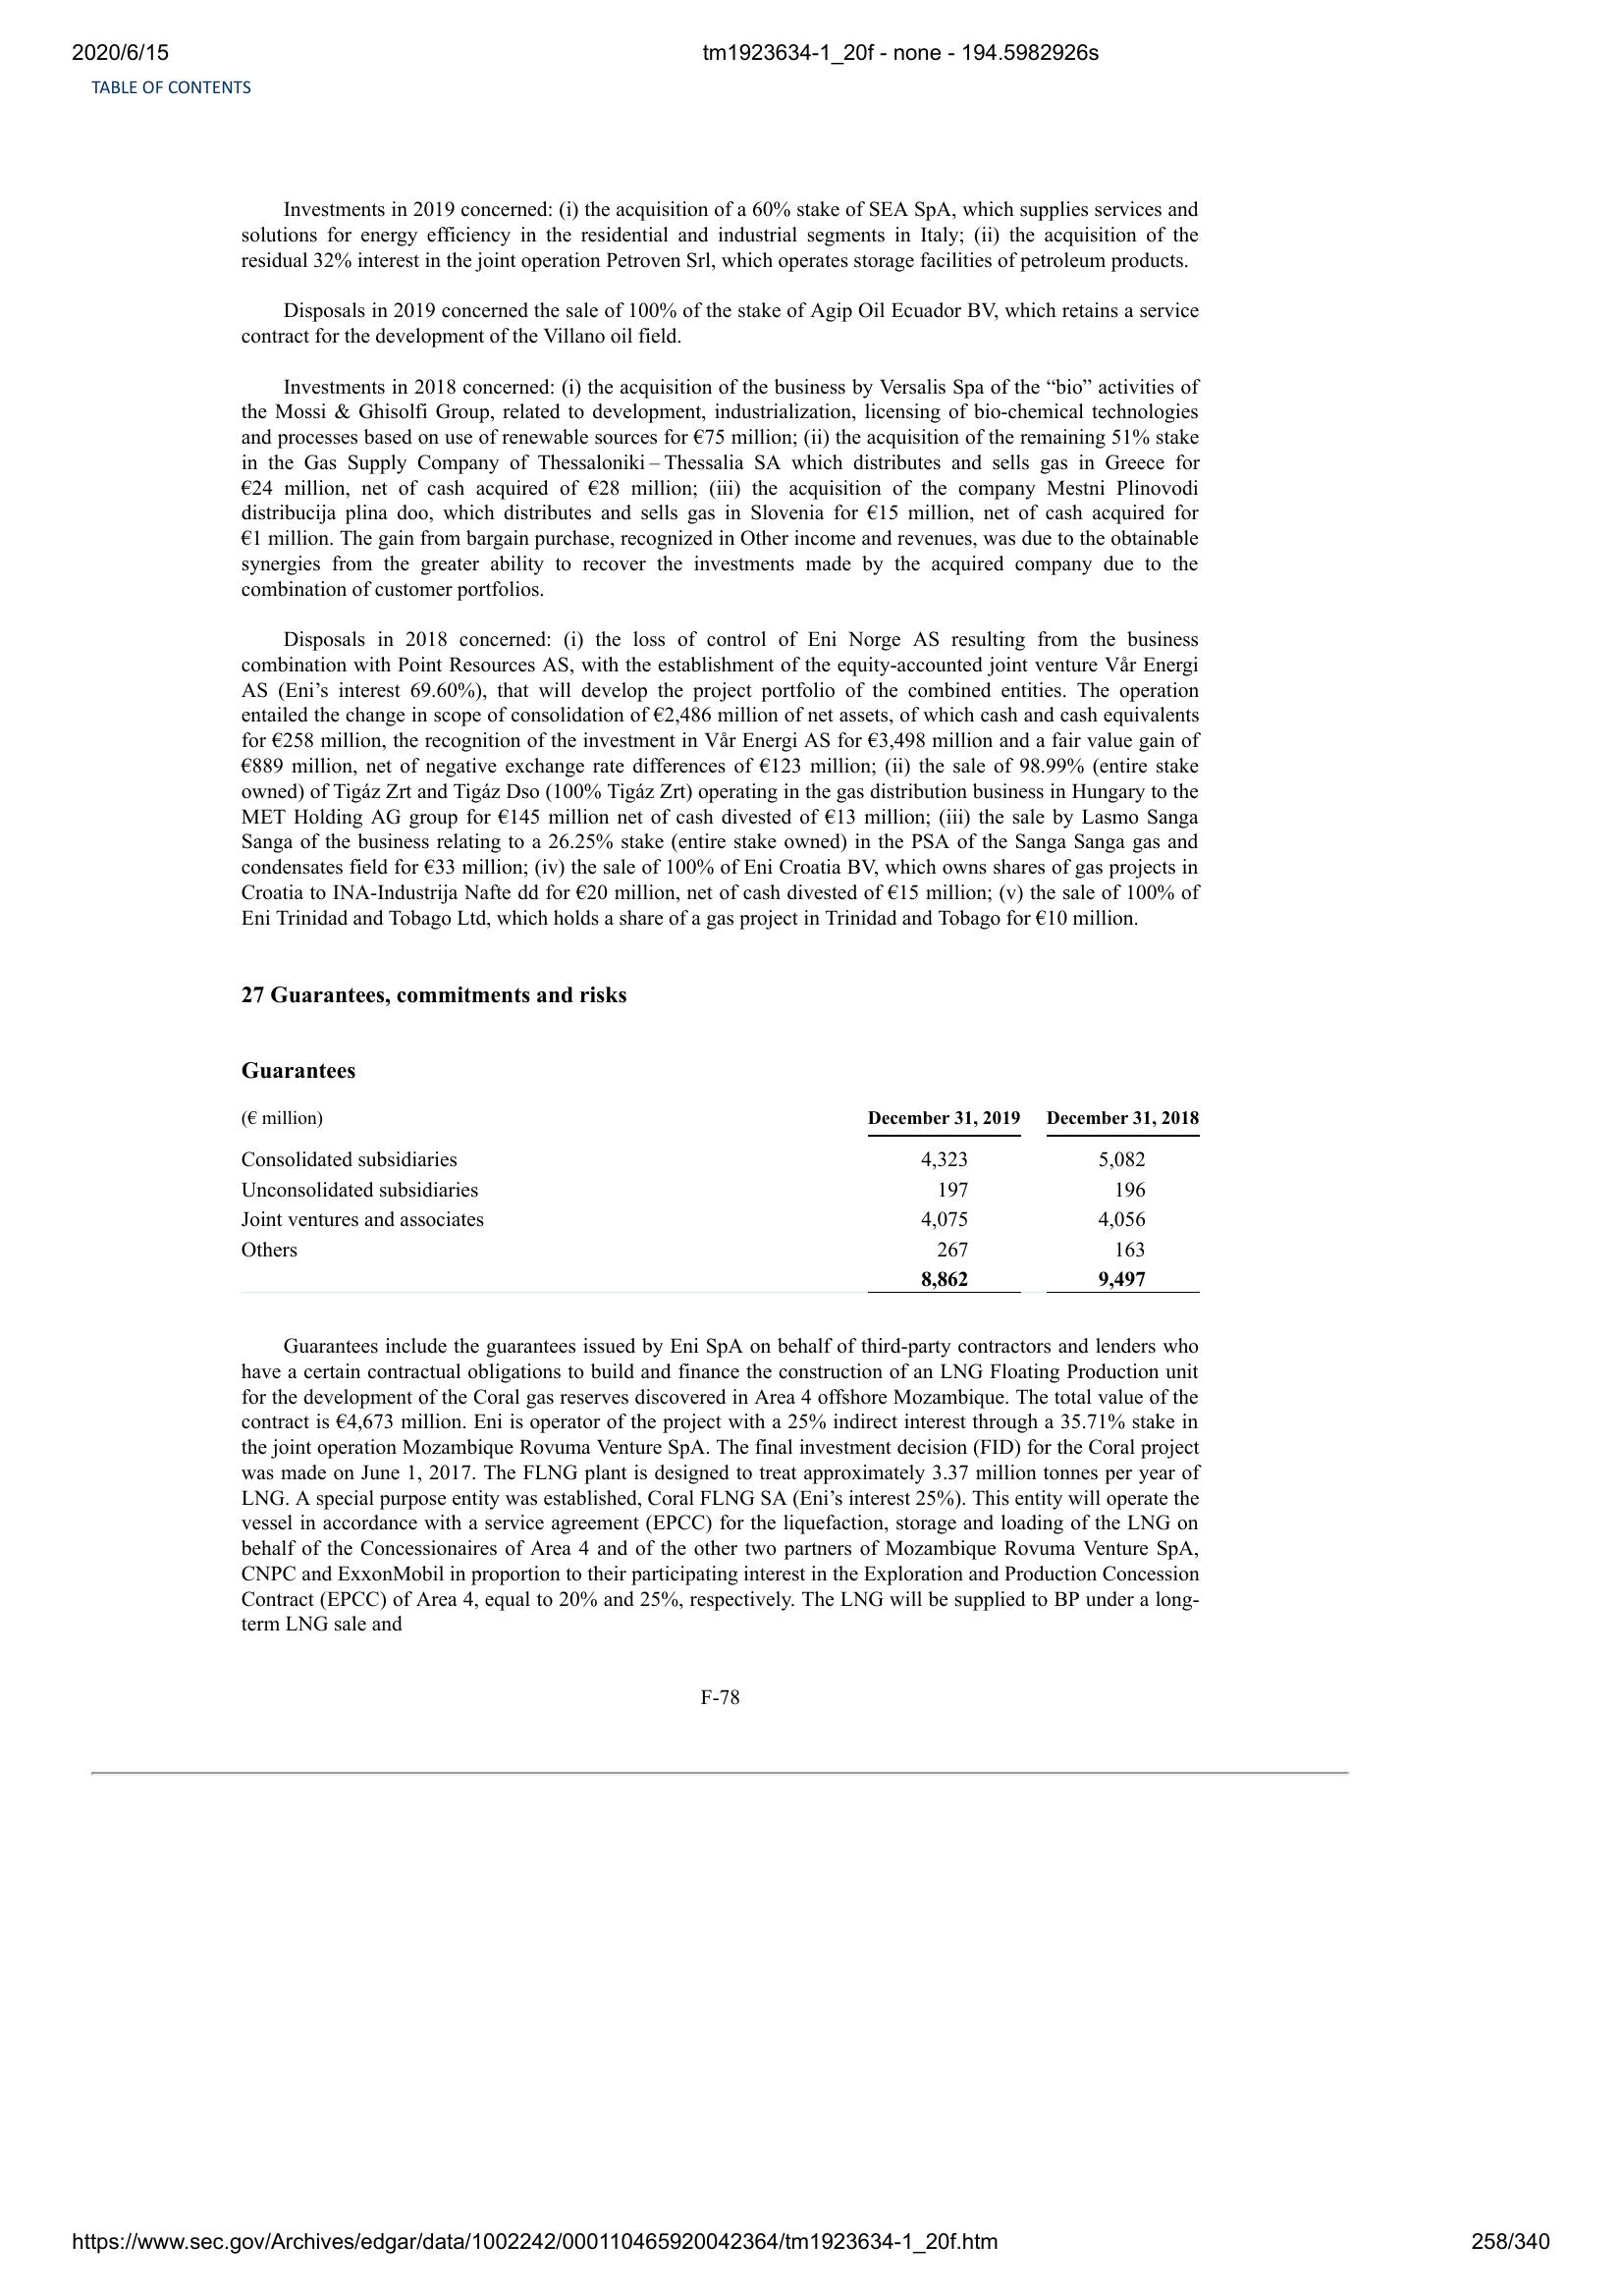table: (239, 1097, 1203, 1299)
